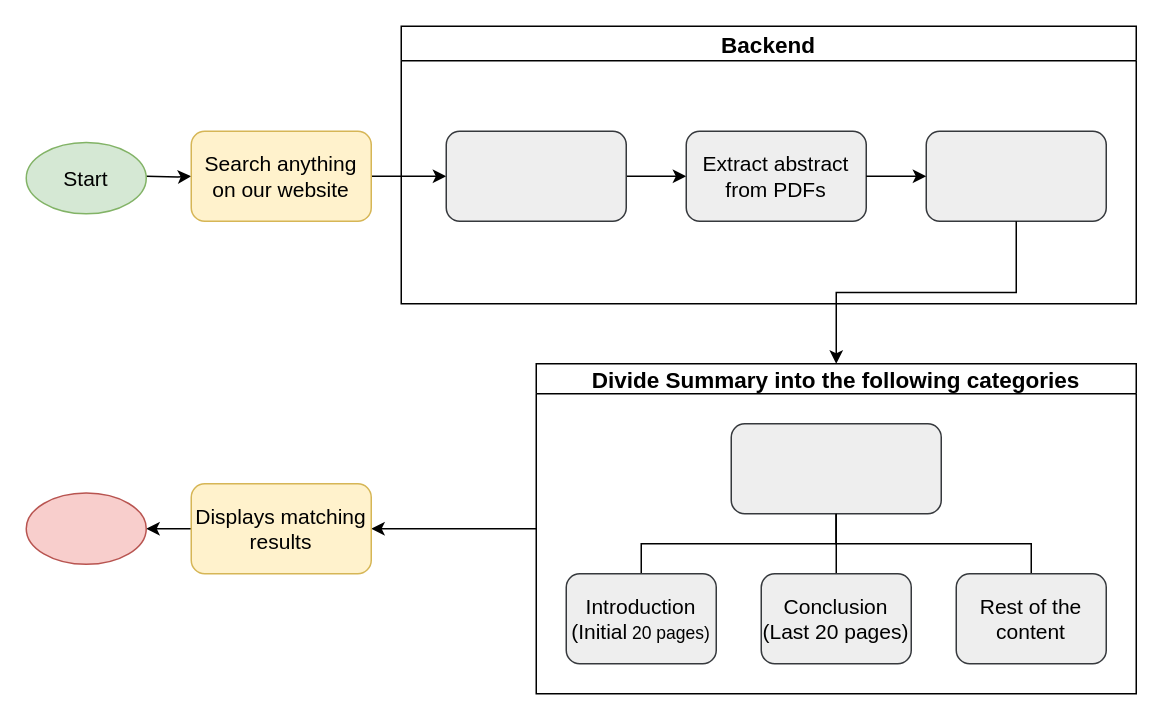
The diagram is 1163 pixels wide and 720 high, and some of its shapes have lost their labels. The shapes that lost their labels are listed below. From the top down, each one's centre as x and y in pixels, then its label:
the point at 535,175: API Call to NTRS website
the point at 1015,175: Create Summary
the point at 835,468: Summary
the point at 85,528: End
